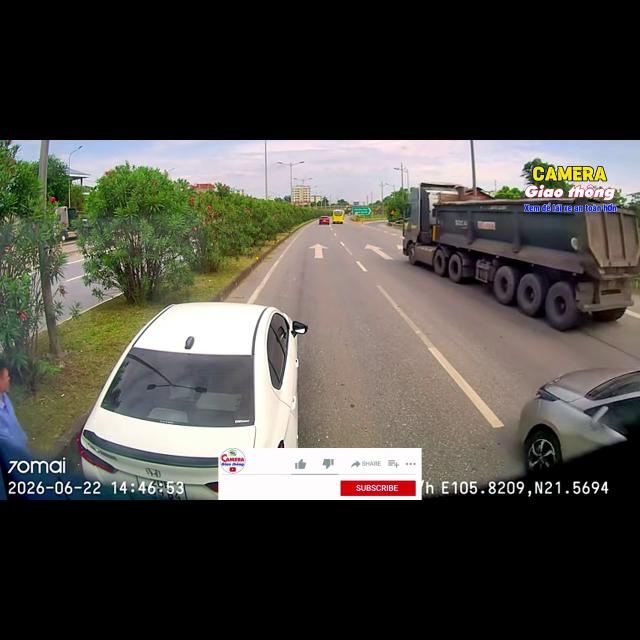bus: (332, 210, 344, 223)
car: (76, 302, 307, 498), (518, 368, 639, 472), (319, 216, 330, 224)
truck: (403, 183, 639, 331), (55, 207, 77, 242)
